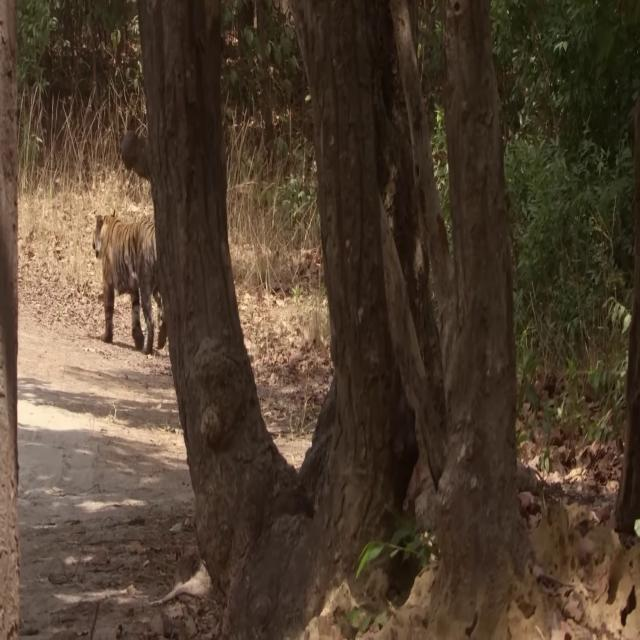tiger: (91, 206, 168, 354)
